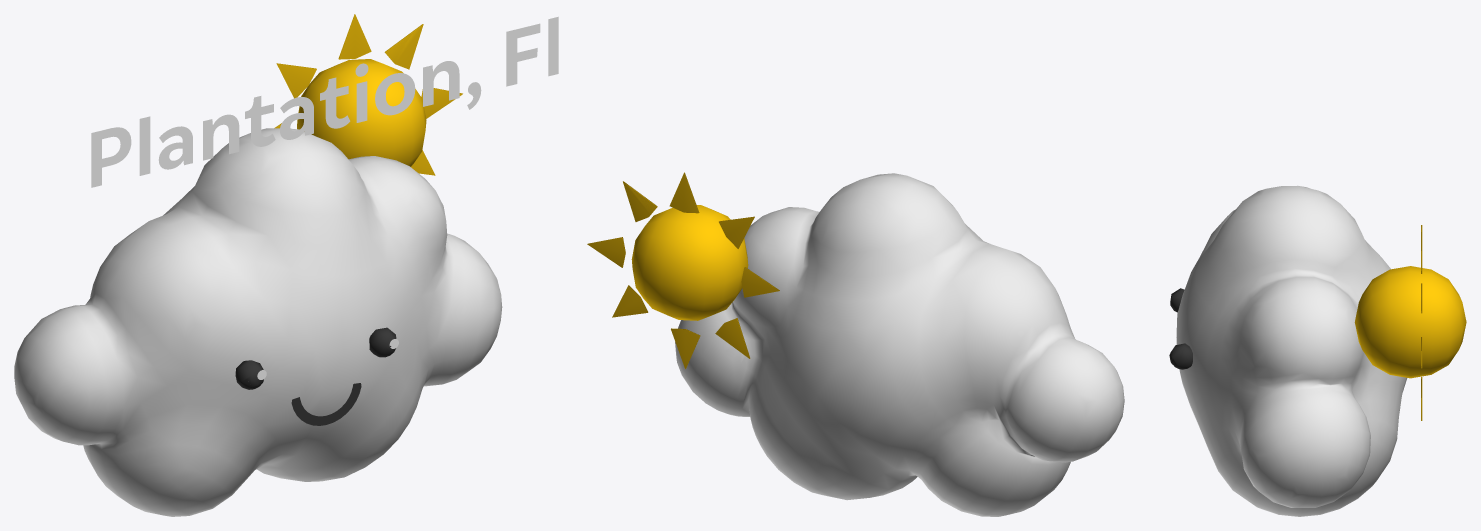
Rendered from cloudy_plantation.glb.
3 views of the same model, side by side, from view 1: azimuth 30°, elevation 25°; view 2: azimuth 150°, elevation 25°; view 3: azimuth 270°, elevation 25° (orthographic). The views are drawn at different scales.
Visible parts, largest first — view 1: PM3D_Sphere3D4, _Fl, PM3D_Sphere3D1_5, PM3D_Sphere3D5; view 2: PM3D_Sphere3D4, PM3D_Sphere3D1_5; view 3: PM3D_Sphere3D4, PM3D_Sphere3D1_5, PM3D_Sphere3D5.
Boxes of the visible parts, x1,y1,x2,y2 form: PM3D_Sphere3D4: (14, 128, 502, 516); _Fl: (91, 16, 558, 187); PM3D_Sphere3D1_5: (274, 14, 462, 175); PM3D_Sphere3D5: (235, 327, 398, 425); PM3D_Sphere3D4: (675, 173, 1124, 516); PM3D_Sphere3D1_5: (587, 172, 779, 368); PM3D_Sphere3D4: (1176, 185, 1407, 516); PM3D_Sphere3D1_5: (1354, 225, 1466, 420); PM3D_Sphere3D5: (1169, 288, 1192, 369).
Size of the model in its own units: 7.4 by 6.12 by 4.31.
4 materials, 4 textured.
